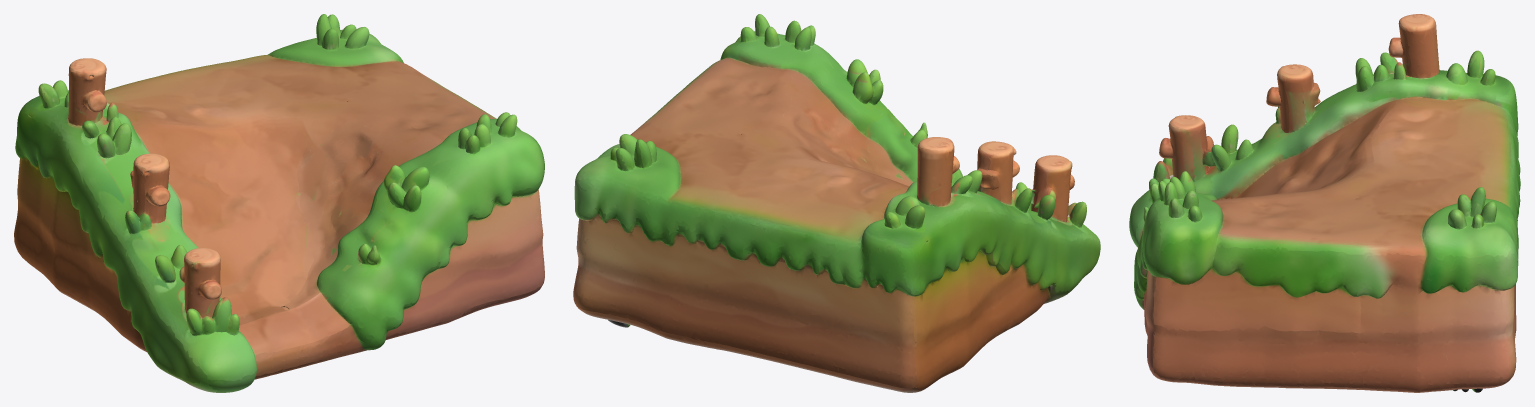
File: ter_ramp_01.glb
3 renders of one model, left to right at view 1: azimuth 30°, elevation 25°; view 2: azimuth 150°, elevation 25°; view 3: azimuth 270°, elevation 25°, orthographic.
Visible parts, largest first — view 1: geometry_0; view 2: geometry_0; view 3: geometry_0.
Boxes of the visible parts, <box> form: geometry_0: <box>14,14,544,392</box>; geometry_0: <box>573,14,1100,392</box>; geometry_0: <box>1129,14,1520,392</box>.
Bounding box in the file's own units: 0.12 × 0.0744 × 0.1129.
Materials: 1 (1 with a texture image).
